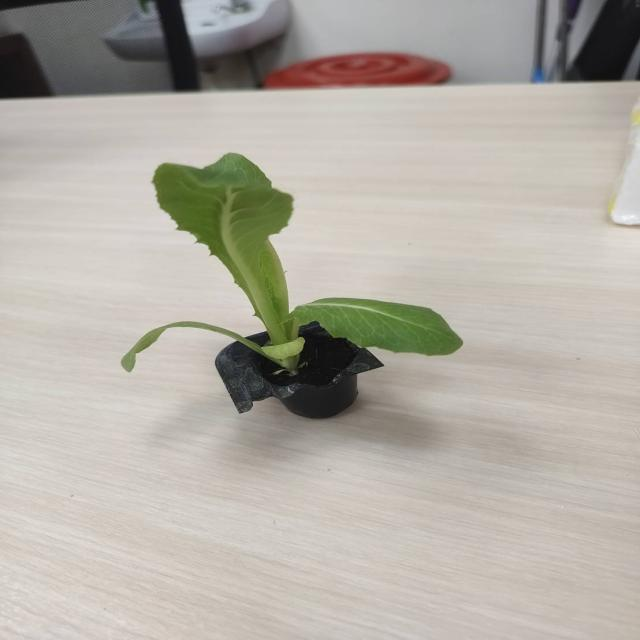Lettuce-Not-Ready-to-Harvest: (122, 154, 462, 372)
